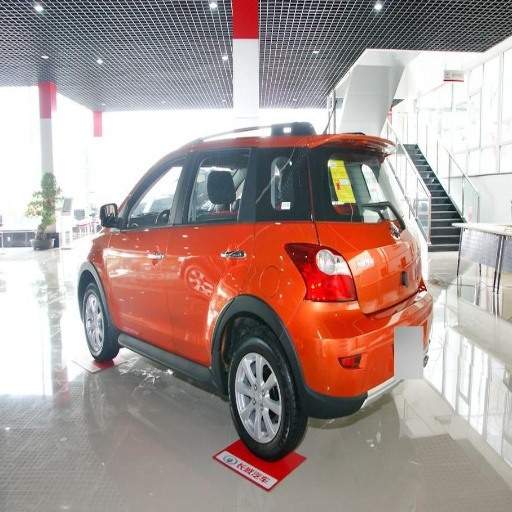back_bumper: (294, 301, 428, 422)
back_glass: (270, 148, 397, 203)
back_left_door: (165, 143, 250, 354)
trunk: (318, 222, 411, 332)
